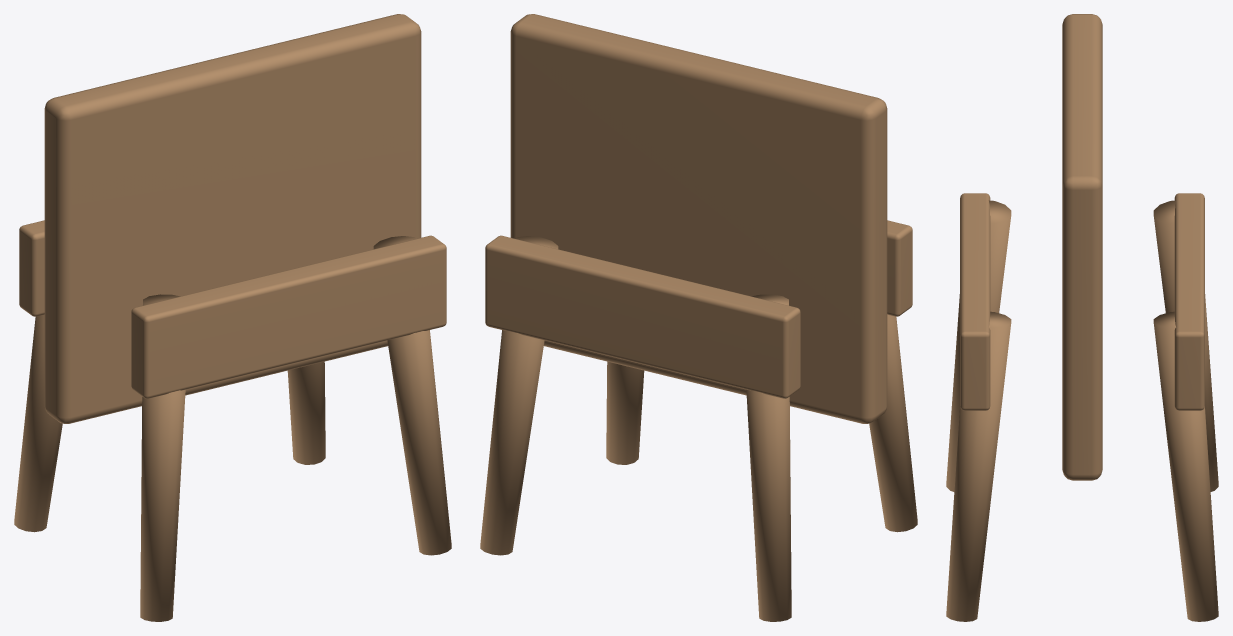
Rendered from atelier-side-table.glb.
3 views of the same model, side by side, from view 1: azimuth 30°, elevation 25°; view 2: azimuth 150°, elevation 25°; view 3: azimuth 270°, elevation 25° (orthographic). The views are drawn at different scales.
Parts seen in each view (by area): view 1: legs.053; view 2: legs.053; view 3: legs.053.
Part boxes in pixels (x1=…): legs.053: x1=14, y1=14, x2=451, y2=621; legs.053: x1=480, y1=14, x2=917, y2=621; legs.053: x1=946, y1=14, x2=1218, y2=621.
Bounding box in the file's own units: 0.6 × 0.7529 × 0.4062.
